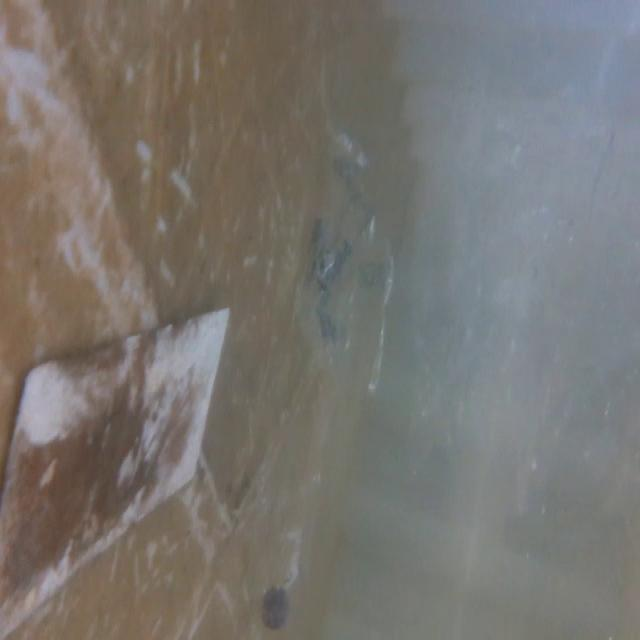metal: (0, 296, 245, 638)
plastic bags: (450, 114, 640, 472), (299, 143, 402, 406)
plastic bottle: (244, 422, 334, 640)
